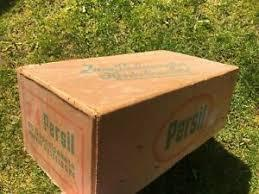box: (17, 49, 238, 194)
